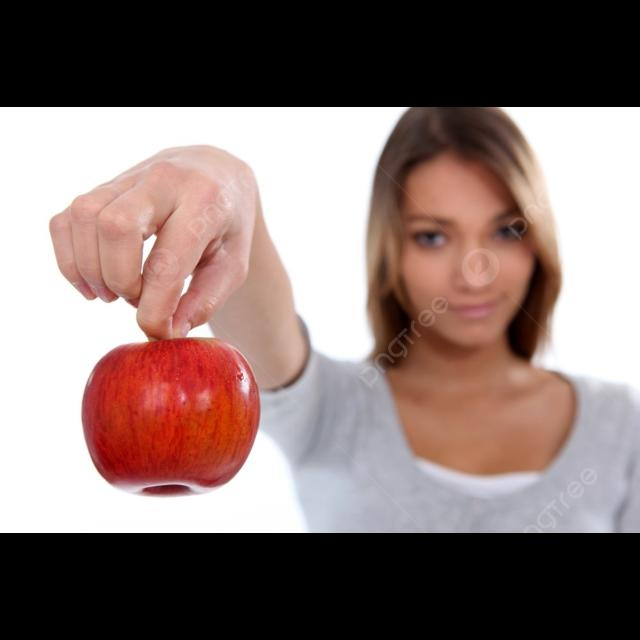Apel Segar: (77, 330, 276, 504)
